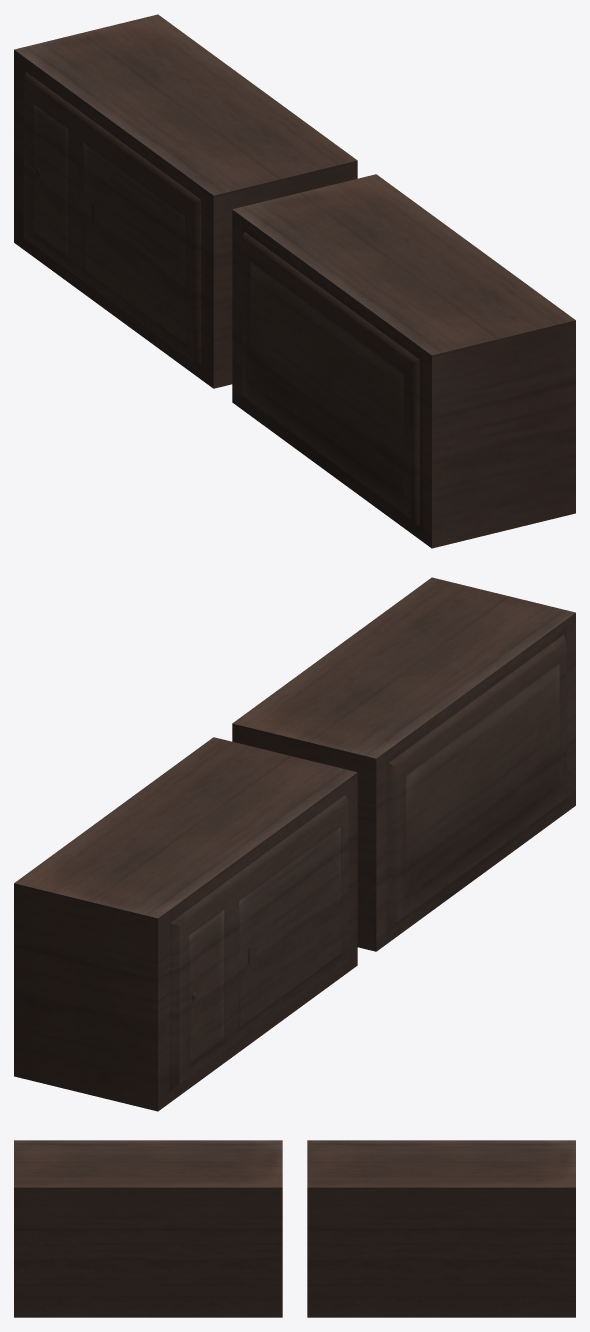
Rendered from BgMD_Tanihira_Kyoujushelf_0102.fbx.
The picture shows the model from 3 angles, top to bottom: view 1: azimuth 30°, elevation 25°; view 2: azimuth 150°, elevation 25°; view 3: azimuth 270°, elevation 25°; orthographic projection. The views are drawn at different scales.
Parts seen in each view (by area): view 1: pCube61; view 2: pCube61; view 3: pCube61.
Part boxes in pixels (box(x1,y1,x2,y2)): pCube61: box(14, 14, 575, 548); pCube61: box(14, 577, 575, 1111); pCube61: box(14, 1140, 575, 1317).
Bounding box in the file's own units: 52.03 × 64.04 × 251.
